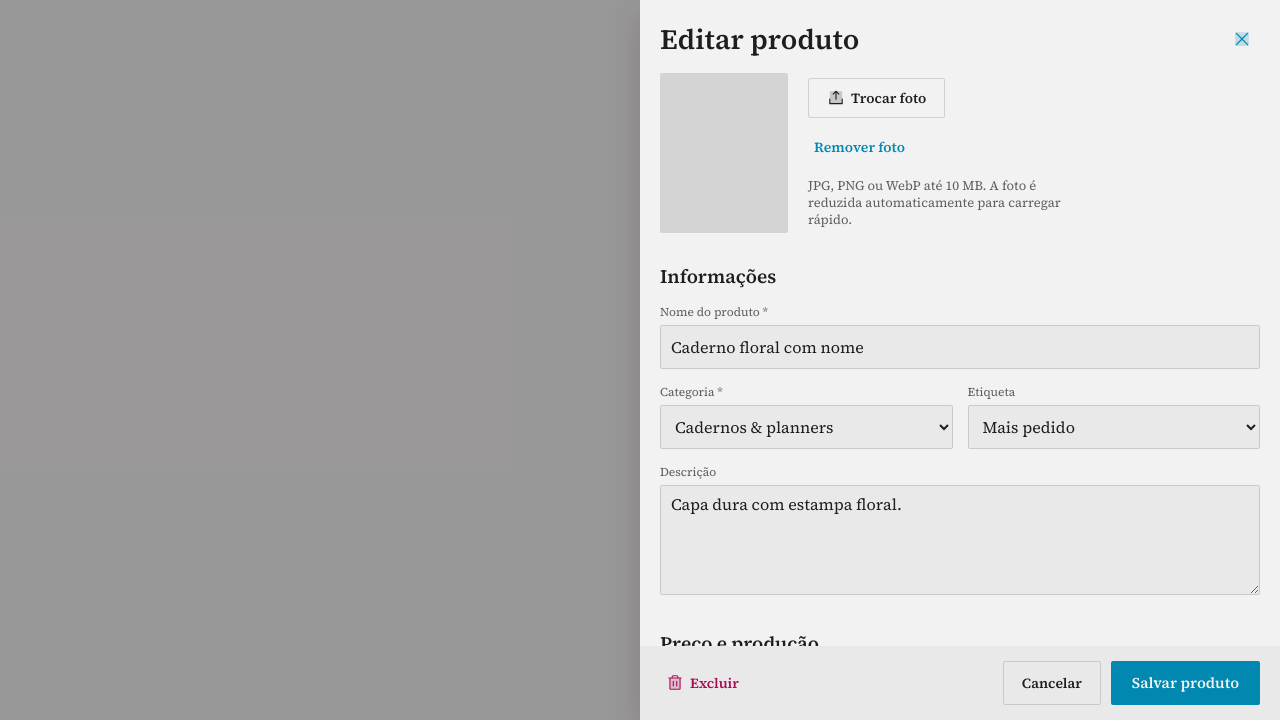
Test: ProductEditor › shows field errors returned by the API next to the field
The width and height of the screenshot is (1280, 720).
Click the button "Salvar produto" at (1185, 683), box [1111,661,1260,705]
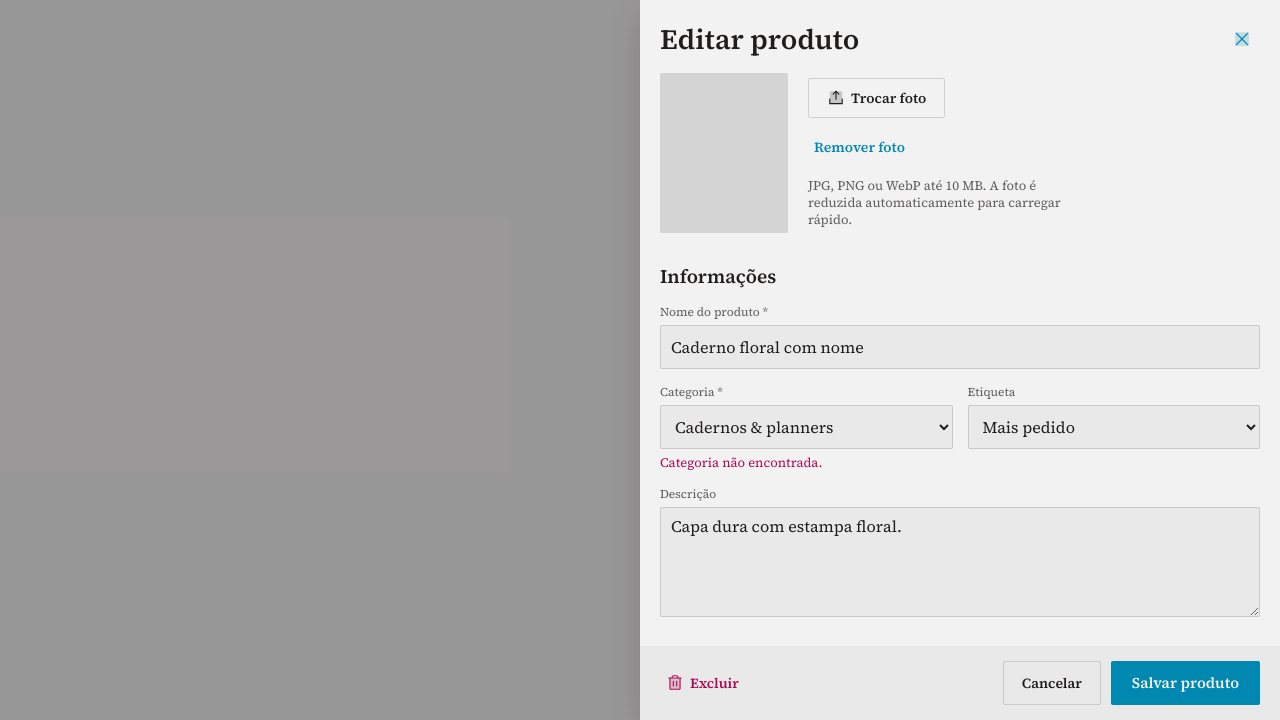
Expected: the text "Categoria não encontrada." is shown, [660,454,822,471]
